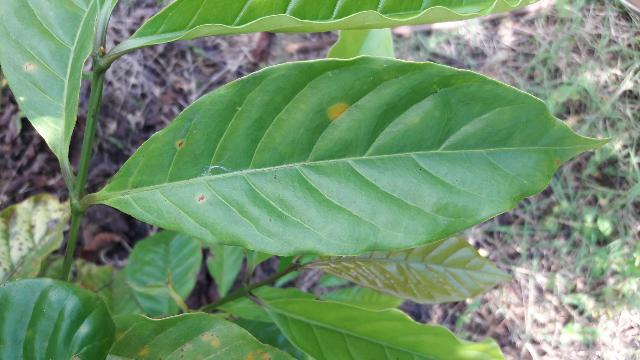rust_level_1: (94, 52, 621, 258)
